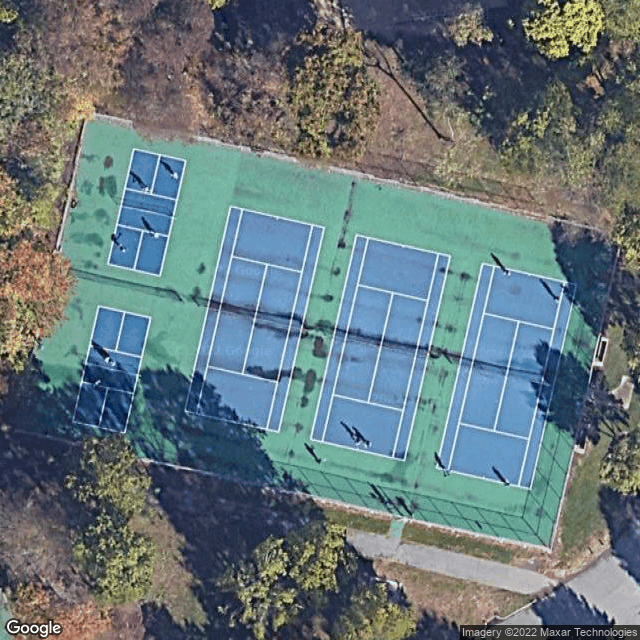Court: (436, 262, 579, 492), (183, 205, 325, 433), (311, 234, 452, 462)
